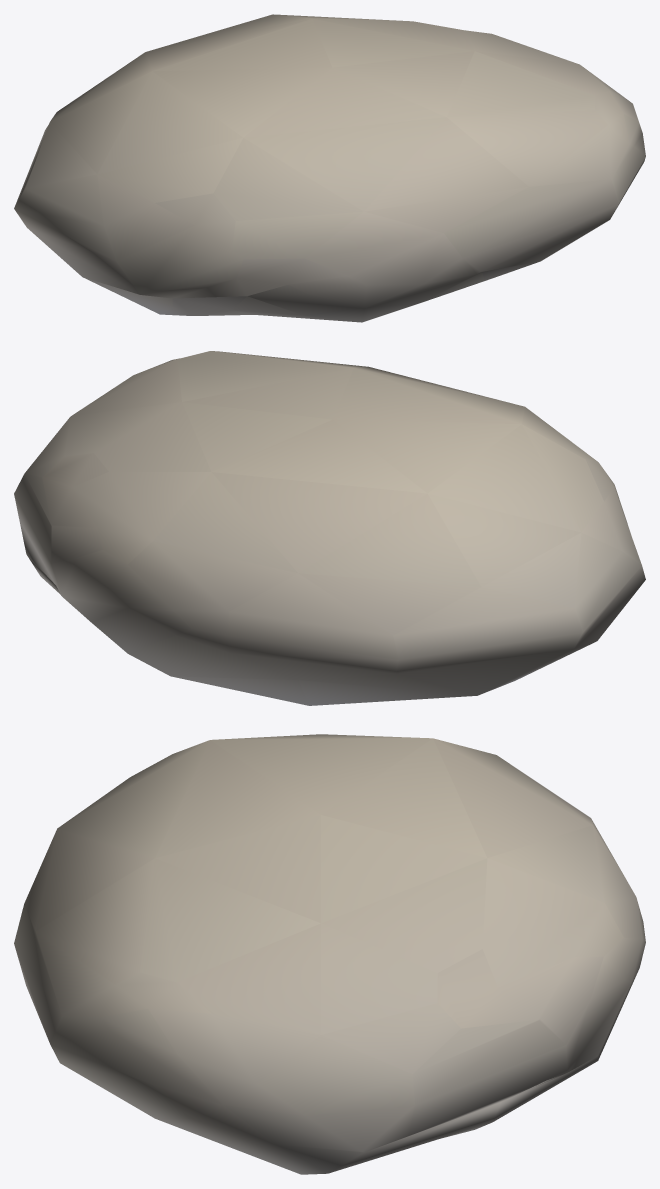
File: cobble_b.glb
3 renders of one model, top to bottom at view 1: azimuth 30°, elevation 25°; view 2: azimuth 150°, elevation 25°; view 3: azimuth 270°, elevation 25°, orthographic. The views are drawn at different scales.
Parts seen in each view (by area): view 1: Cobble; view 2: Cobble; view 3: Cobble.
Part boxes in pixels (x1,y1,x2,y2): Cobble: [14, 14, 645, 322]; Cobble: [14, 351, 645, 705]; Cobble: [14, 734, 645, 1174].
Size of the model in its own units: 0.2978 by 0.1048 by 0.2371.
